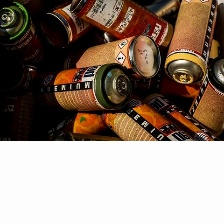aerosol_cans: (97, 89, 200, 153), (56, 30, 166, 88), (68, 0, 176, 59), (28, 59, 135, 117), (0, 60, 49, 168), (162, 0, 221, 87), (0, 0, 53, 77), (181, 52, 223, 140)
